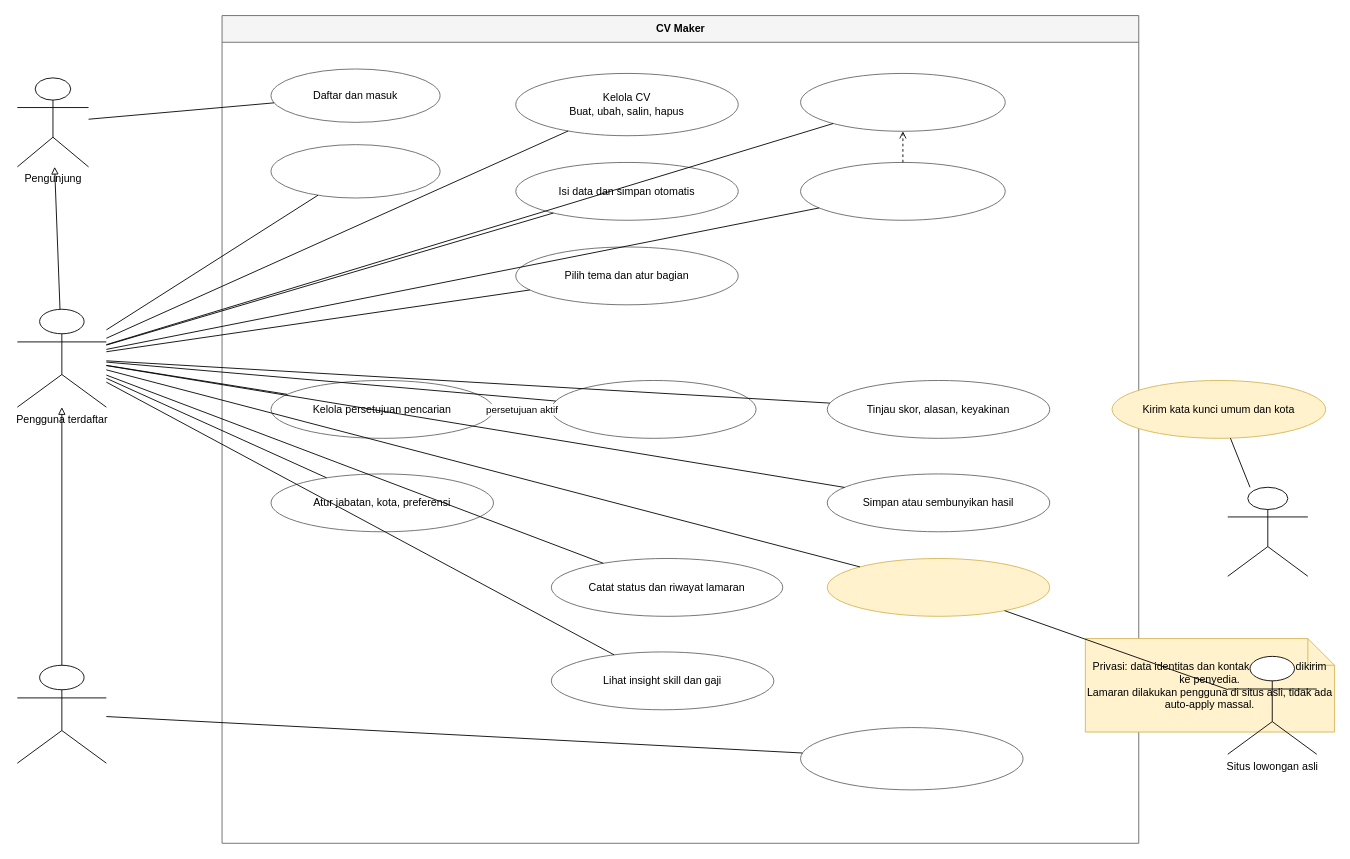
Some shapes in this 1350 by 859 pixel diagram are drawn without their labels. Each missing label, with the box of its shape:
Admin pembayaran: (16, 664, 106, 763)
Buka tautan dan lamar manual: (826, 558, 1050, 616)
Cari dan filter lowongan: (550, 380, 756, 438)
Jooble API: (1227, 486, 1308, 576)
Kelola akun: (270, 144, 440, 198)
Kirim bukti dan unduh PDF: (800, 162, 1005, 220)
Pratinjau CV dan PDF: (800, 73, 1005, 131)
Tinjau dan putuskan pembayaran: (800, 727, 1023, 790)
